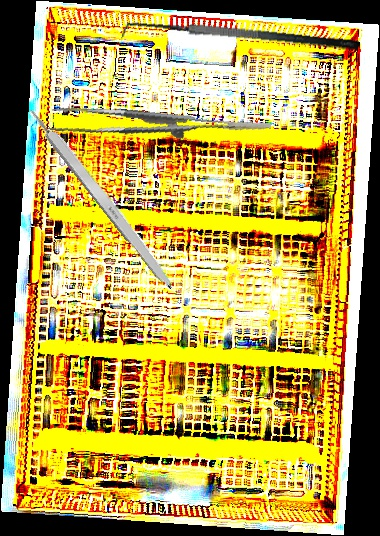Scalpel Handle: (27, 104, 179, 292)
Spatula Surgical: (120, 9, 360, 71)
Tissue Forceps: (48, 85, 272, 168)
